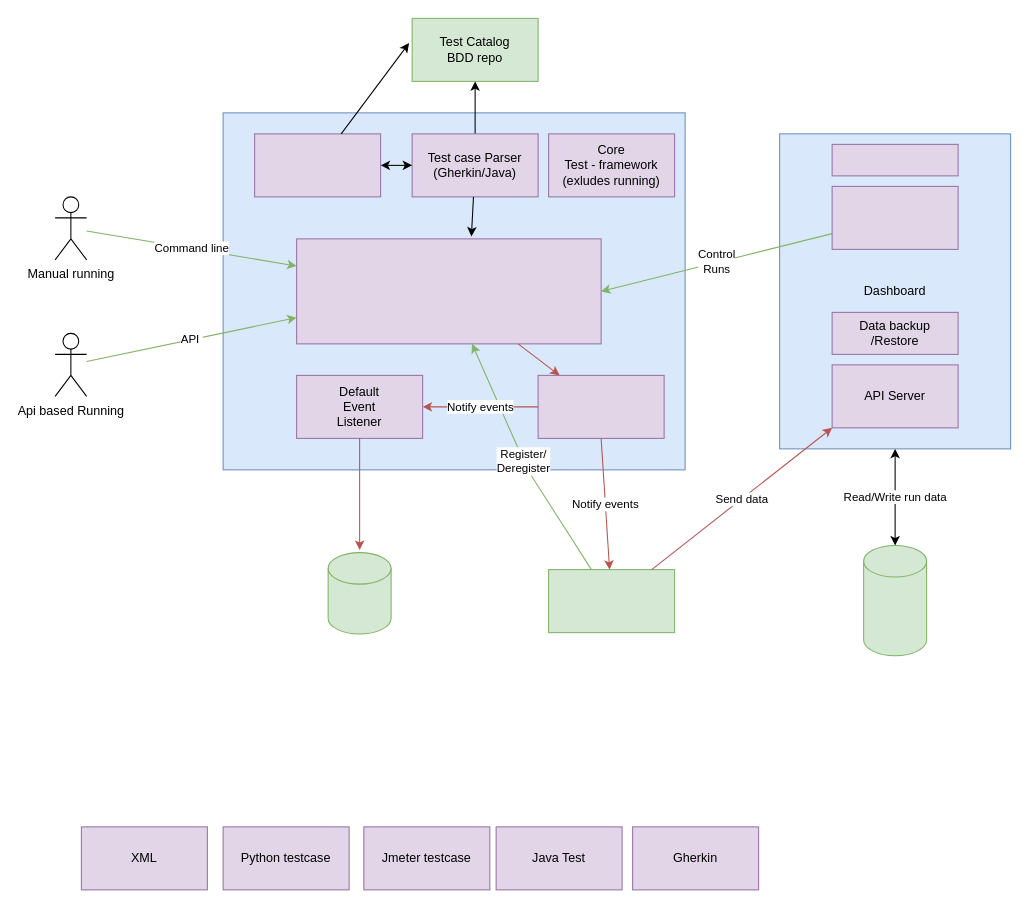
Some shapes in this 1029 by 908 pixel diagram are drawn without their labels. Here are the shapes that lost their labels. From the top down, the centre of each, then its label:
point 317,165: TestData Source JSON/custom
point 894,159: Event log viewer
point 894,217: Web UI
point 448,291: Spring Runner
point 600,406: Event notifier
point 359,593: Event Log
point 611,601: Event Listerners
point 895,600: Database or Influx
